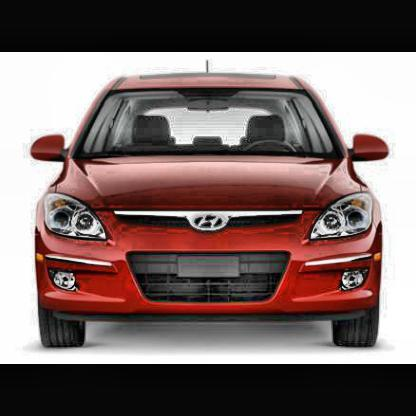Hyundai Elantra Touring Hatchback 2012: (30, 63, 393, 352)
